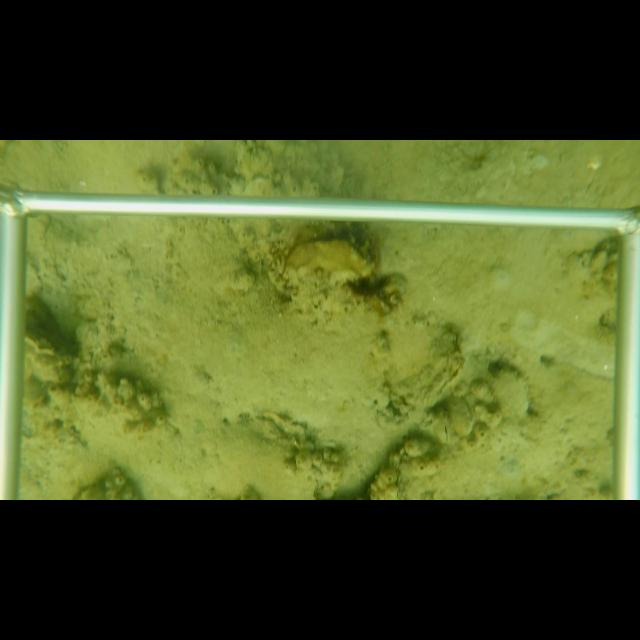Oyster-Closed: (383, 316, 465, 415), (278, 237, 378, 295), (491, 367, 529, 420), (433, 416, 451, 448)
